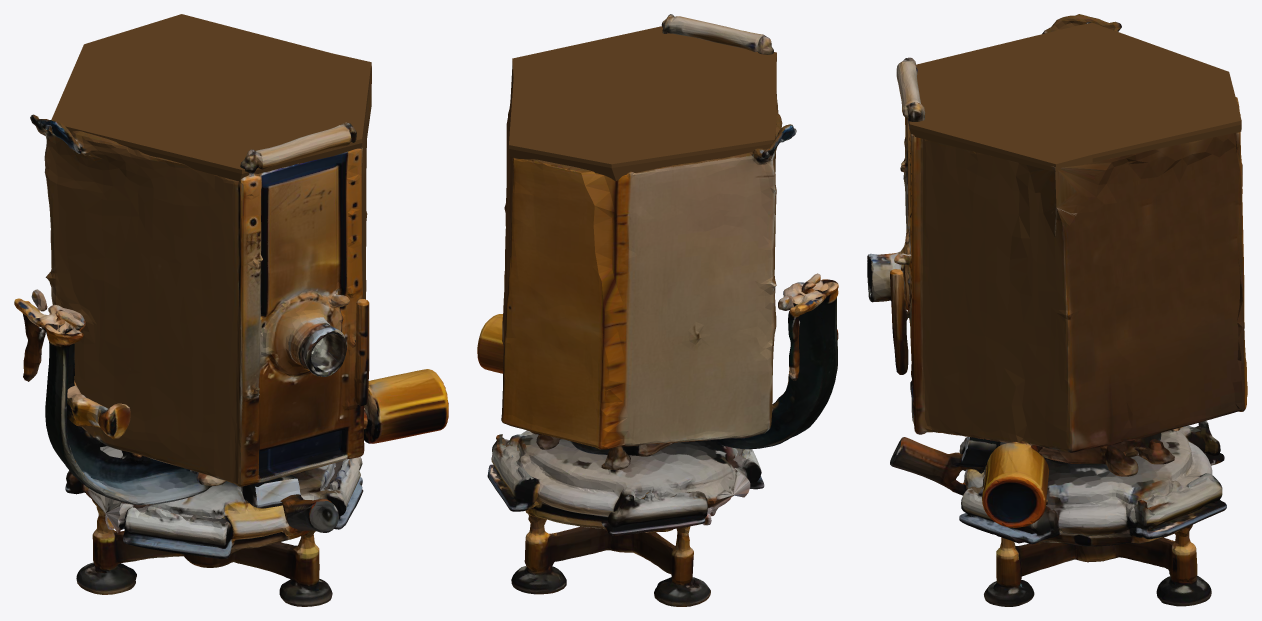
The picture shows the model from 3 angles, left to right: view 1: azimuth 30°, elevation 25°; view 2: azimuth 150°, elevation 25°; view 3: azimuth 270°, elevation 25°; orthographic projection. The views are drawn at different scales.
Visible parts, largest first — view 1: textured_mesh.obj.001, Cube; view 2: textured_mesh.obj.001, Cube; view 3: textured_mesh.obj.001, Cube.
Boxes of the visible parts, bbox=[...] form: textured_mesh.obj.001: bbox=[14, 65, 448, 606]; Cube: bbox=[50, 14, 371, 181]; textured_mesh.obj.001: bbox=[477, 14, 838, 606]; Cube: bbox=[509, 26, 776, 180]; textured_mesh.obj.001: bbox=[867, 14, 1247, 606]; Cube: bbox=[909, 22, 1241, 171].
Size of the model in its own units: 1.54 by 1.98 by 1.39.
2 materials, 1 textured.
